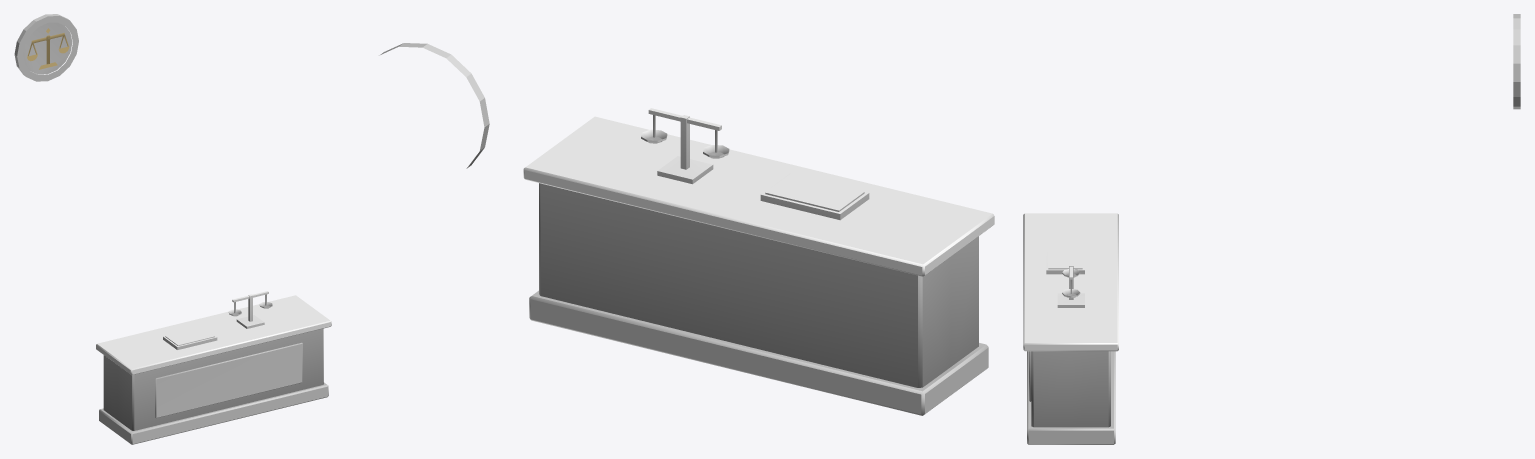
File: exch_counter.glb
3 views of the same model, side by side, from view 1: azimuth 30°, elevation 25°; view 2: azimuth 150°, elevation 25°; view 3: azimuth 270°, elevation 25° (orthographic). The views are drawn at different scales.
Visible parts, largest first — view 1: exch_counter_CL_Stone, exch_counter_CL_Fabric, exch_counter_CL_Copper, exch_counter_CL_Gilt; view 2: exch_counter_CL_Stone, exch_counter_CL_Fabric; view 3: exch_counter_CL_Fabric, exch_counter_CL_Stone.
Part boxes in pixels (x1,y1,x2,y2): exch_counter_CL_Stone: (14, 14, 328, 444); exch_counter_CL_Fabric: (96, 291, 331, 375); exch_counter_CL_Copper: (23, 22, 72, 74); exch_counter_CL_Gilt: (27, 28, 69, 69); exch_counter_CL_Stone: (379, 43, 988, 415); exch_counter_CL_Fabric: (523, 108, 994, 276); exch_counter_CL_Fabric: (1023, 213, 1118, 351); exch_counter_CL_Stone: (1027, 14, 1520, 444).
Size of the model in its own units: 2.72 by 3.52 by 4.37.
